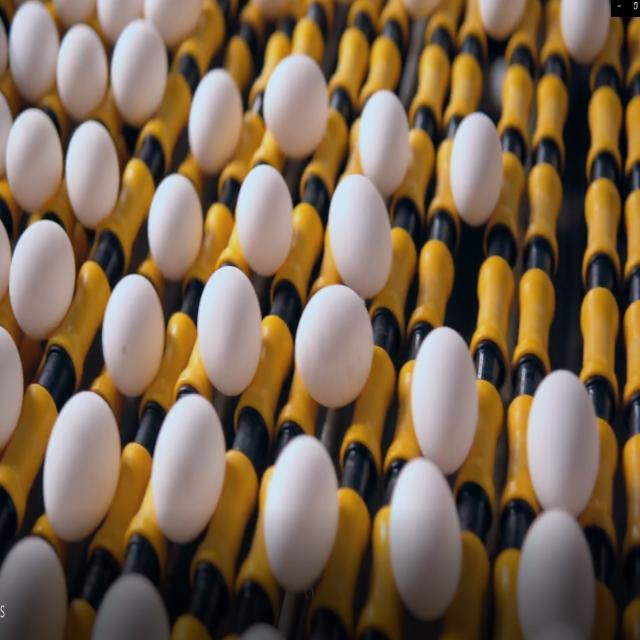Egg: (260, 429, 340, 598), (386, 449, 466, 618), (522, 354, 602, 514), (40, 390, 119, 550), (512, 501, 607, 632), (405, 314, 482, 472), (292, 270, 379, 405), (150, 394, 227, 546), (194, 261, 268, 400), (0, 510, 73, 640), (100, 266, 168, 404), (332, 167, 400, 299), (10, 218, 78, 344), (448, 100, 510, 232), (237, 156, 300, 283), (262, 40, 331, 154), (113, 15, 177, 135), (354, 80, 414, 194), (183, 63, 247, 168), (92, 560, 172, 640), (145, 175, 206, 279), (8, 102, 64, 210), (64, 120, 120, 219), (8, 1, 62, 96), (59, 21, 112, 111)
